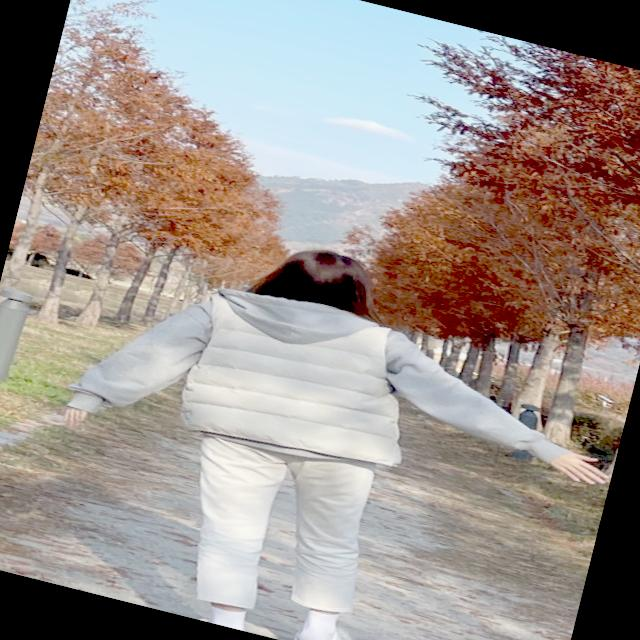cottonpants: (169, 424, 391, 636)
hoodies: (58, 248, 596, 533)
padding: (170, 279, 438, 481)
